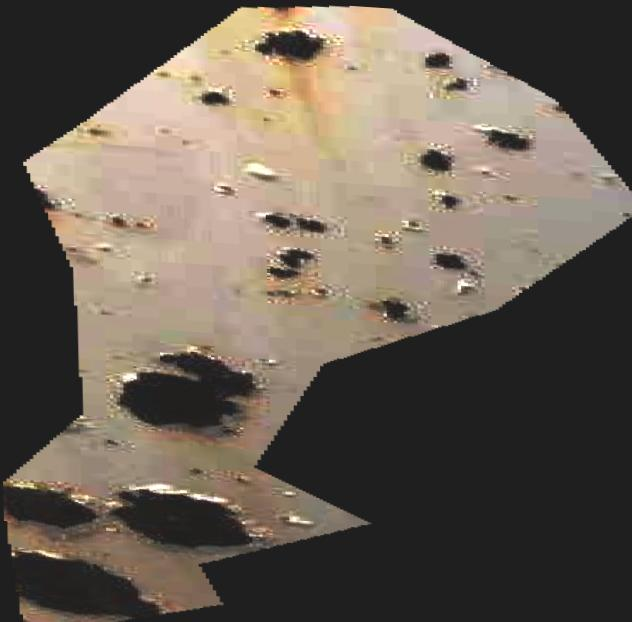Pitting Corrosion: (1, 1, 632, 622)
